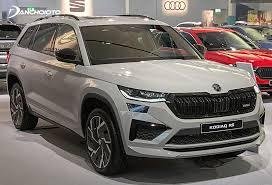skoda: (211, 81, 224, 93)
